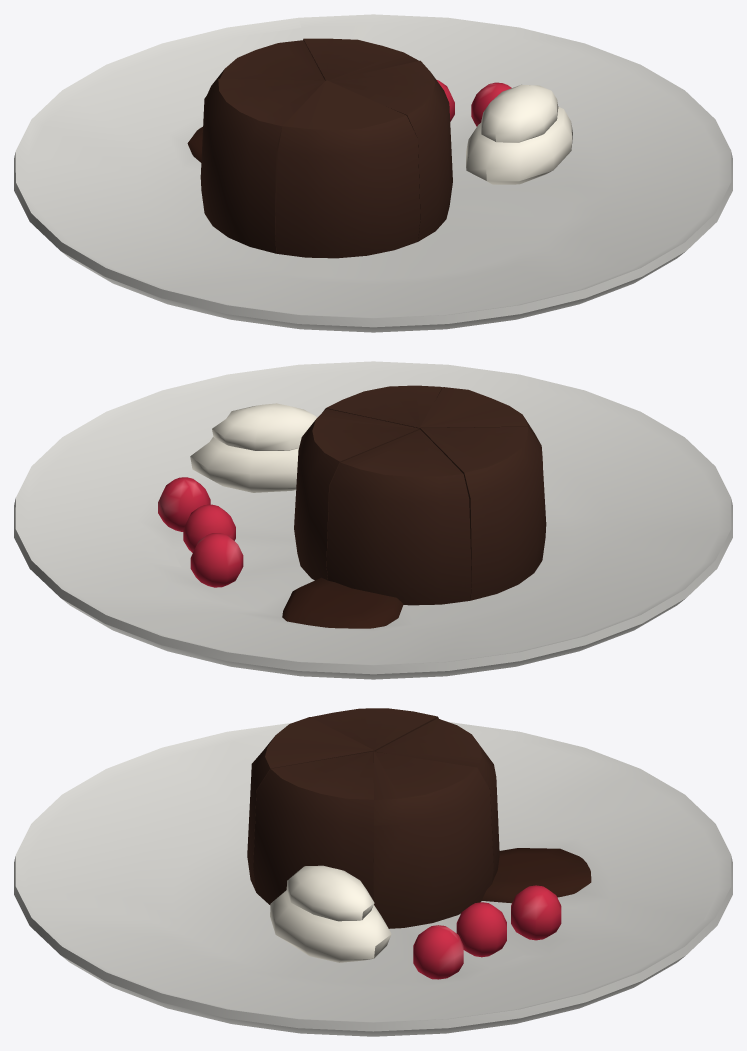
Rendered from dish-chocolate-fondant-lod1.glb.
3 renders of one model, top to bottom at view 1: azimuth 30°, elevation 25°; view 2: azimuth 150°, elevation 25°; view 3: azimuth 270°, elevation 25°, orthographic.
Visible parts, largest first — view 1: chocolate-fondant.lod1__table porcelain, chocolate-fondant.lod1__food, chocolate-fondant.lod1__food glaze; view 2: chocolate-fondant.lod1__table porcelain, chocolate-fondant.lod1__food, chocolate-fondant.lod1__food glaze; view 3: chocolate-fondant.lod1__table porcelain, chocolate-fondant.lod1__food, chocolate-fondant.lod1__food glaze.
Boxes of the visible parts, box(x1,y1,x2,y2) form: chocolate-fondant.lod1__table porcelain: box(14, 14, 732, 332); chocolate-fondant.lod1__food: box(200, 38, 452, 258); chocolate-fondant.lod1__food glaze: box(187, 79, 572, 184); chocolate-fondant.lod1__table porcelain: box(14, 361, 732, 679); chocolate-fondant.lod1__food: box(294, 385, 546, 605); chocolate-fondant.lod1__food glaze: box(158, 403, 403, 628); chocolate-fondant.lod1__table porcelain: box(14, 722, 732, 1036); chocolate-fondant.lod1__food: box(247, 708, 499, 928); chocolate-fondant.lod1__food glaze: box(270, 848, 591, 979).
Bounding box in the file's own units: 0.2 × 0.0493 × 0.1989.
